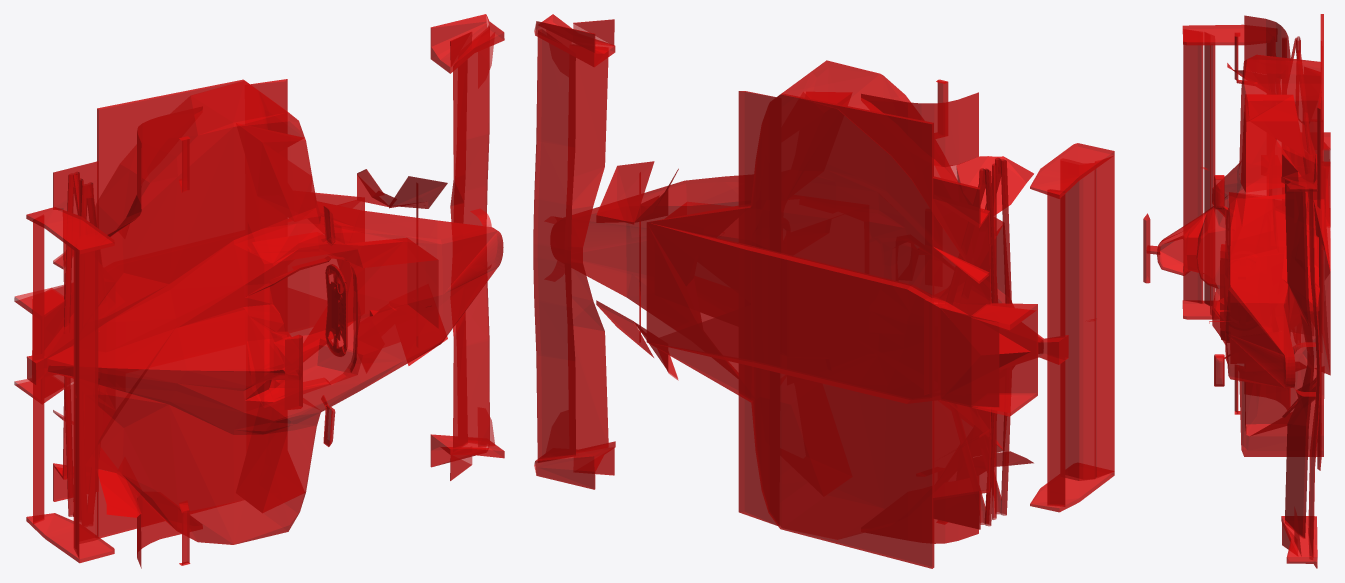
Rendered from CFR24_RT_ges_chassis.obj.
3 views of the same model, side by side, from view 1: azimuth 30°, elevation 25°; view 2: azimuth 150°, elevation 25°; view 3: azimuth 270°, elevation 25° (orthographic). The views are drawn at different scales.
Parts seen in each view (by area): view 1: Mesh28, Mesh49, Mesh75, Mesh85, Mesh72, Mesh92, Mesh47, Mesh16, Mesh88, Mesh73, Mesh53, Mesh81 (+16 smaller); view 2: Mesh28, Mesh75, Mesh53, Mesh72, Mesh85, Mesh4, Mesh23, Mesh84, Mesh42, Mesh92, Mesh88, Mesh86 (+15 smaller); view 3: Mesh28, Mesh49, Mesh72, Mesh84, Mesh81, Mesh85, Mesh75, Mesh88, Mesh53, Mesh86, Mesh87, Mesh90 (+12 smaller).
Boxes of the visible parts, left/top/right/bottom form: Mesh28: left=32, top=79, right=503, bottom=544; Mesh49: left=247, top=238, right=438, bottom=354; Mesh75: left=463, top=26, right=489, bottom=443; Mesh85: left=73, top=235, right=98, bottom=548; Mesh72: left=450, top=59, right=467, bottom=451; Mesh92: left=33, top=215, right=44, bottom=523; Mesh47: left=27, top=292, right=125, bottom=391; Mesh16: left=247, top=335, right=362, bottom=407; Mesh88: left=137, top=106, right=202, bottom=204; Mesh73: left=430, top=14, right=504, bottom=73; Mesh53: left=250, top=79, right=287, bottom=403; Mesh81: left=248, top=232, right=362, bottom=267; Mesh28: left=583, top=60, right=1043, bottom=568; Mesh75: left=533, top=29, right=575, bottom=462; Mesh53: left=738, top=91, right=781, bottom=525; Mesh72: left=570, top=44, right=608, bottom=452; Mesh85: left=1065, top=169, right=1095, bottom=480; Mesh4: left=933, top=393, right=990, bottom=529; Mesh23: left=932, top=176, right=991, bottom=305; Mesh84: left=1095, top=155, right=1114, bottom=478; Mesh42: left=932, top=302, right=1037, bottom=416; Mesh92: left=1047, top=189, right=1065, bottom=506; Mesh88: left=861, top=92, right=978, bottom=167; Mesh86: left=1030, top=143, right=1114, bottom=198; Mesh28: left=1157, top=14, right=1330, bottom=456; Mesh49: left=1230, top=253, right=1313, bottom=363; Mesh72: left=1285, top=180, right=1313, bottom=538; Mesh84: left=1183, top=30, right=1203, bottom=303; Mesh81: left=1229, top=192, right=1308, bottom=260; Mesh85: left=1204, top=44, right=1215, bottom=315; Mesh75: left=1308, top=188, right=1320, bottom=559; Mesh88: left=1244, top=15, right=1290, bottom=78; Mesh53: left=1317, top=90, right=1321, bottom=470; Mesh86: left=1182, top=24, right=1244, bottom=45; Mesh87: left=1281, top=516, right=1317, bottom=568; Mesh90: left=1220, top=244, right=1228, bottom=340.
Bounding box in the file's own units: 2531 × 2194 × 953.
